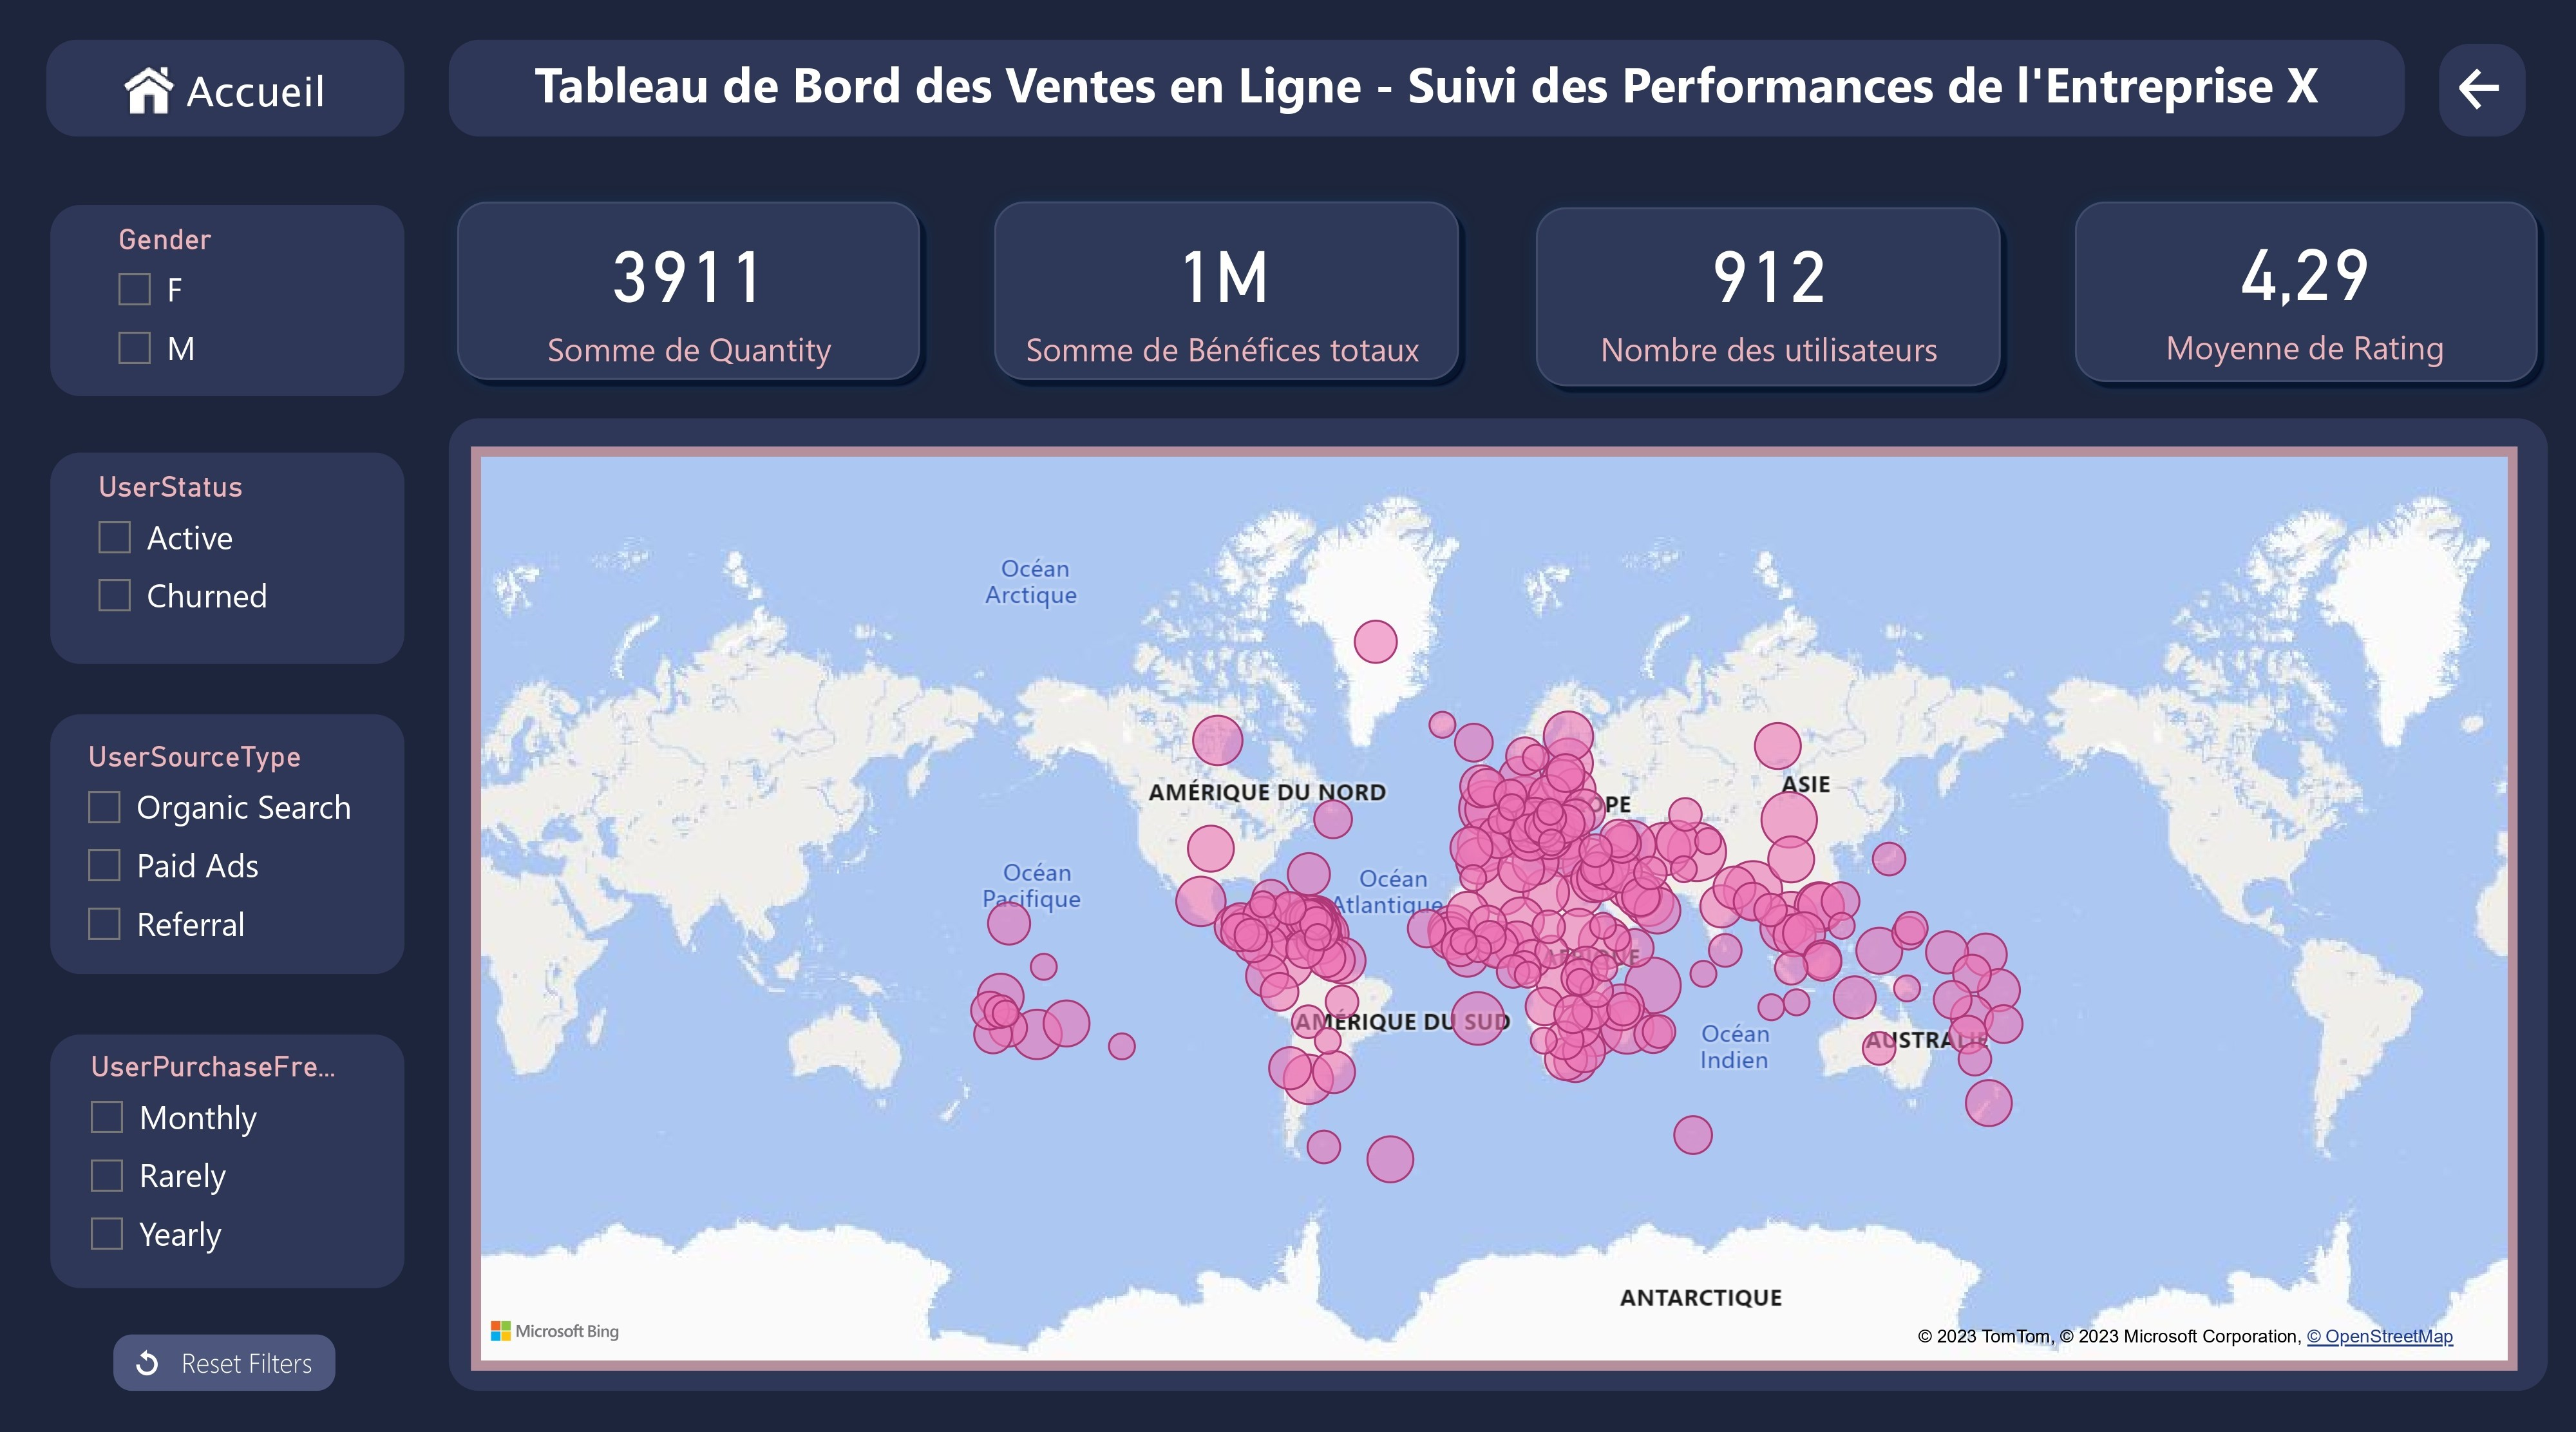

The dashboard page shown, as its layout file describes it:
{"tool":"powerbi","page":{"name":"Maps","canvas":[1280,720],"ordinal":2},"visuals":[{"type":"shape","box":[218.8,97.4,246.5,104.7],"z":0},{"type":"shape","box":[485.7,97.2,246.7,105.3],"z":1000},{"type":"shape","box":[755.5,100.2,246.8,104.7],"z":2000},{"type":"shape","box":[1023.4,96.5,246.3,105.8],"z":3000},{"type":"shape","box":[222.9,212.9,1042.9,482.9],"z":4000},{"type":"shape","box":[23.3,98.3,176.7,528.3],"z":5000},{"type":"shape","box":[222.9,25.7,910,47.1],"z":8000},{"type":"shape","box":[23.3,25,178.3,48.3],"z":9000},{"type":"card","fields":{"Values":["Sum(S_FactPurchases.Quantity)"]},"box":[237.8,97.8,208.9,104.4],"z":10000},{"type":"card","fields":{"Values":["S_FactPurchases.Moyenne Rating"]},"box":[1036.2,96.2,218.8,106.2],"z":11000},{"type":"card","fields":{"Values":["Sum(S_FactPurchases.Total)"]},"box":[502.2,97.8,211.1,104.4],"z":12000},{"type":"card","fields":{"Values":["CountNonNull(U_FactUsers.ID_User)"]},"box":[777.8,97.8,202.2,104.4],"z":13000},{"type":"map","fields":{"Category":["U_DimCountries.Country"],"Size":["Count(U_FactUsers.ID_User)"]},"box":[234.3,227.1,1017.1,458.6],"z":14000},{"type":"slicer","fields":{"Values":["U_DimGender.Gender"]},"box":[30,118.3,161.7,86.7],"z":15000},{"type":"slicer","fields":{"Values":["U_DimUserSourceTypes.UserSourceType"]},"box":[31.7,323.3,165,115],"z":16000},{"type":"slicer","fields":{"Values":["U_DimUserPurchaseFrequency.UserPurchaseFrequency"]},"box":[31.7,470,161.7,120],"z":17000},{"type":"textbox","box":[222.9,25.7,910,52.9],"z":18000},{"type":"slicer","fields":{"Values":["U_DimUserStatus.UserStatus"]},"box":[30,226.7,161.7,96.7],"z":19000},{"type":"actionButton","title":"Reset","box":[20,652.5,177.5,42.5],"z":20001},{"type":"shape","box":[1145.7,26,116.7,48.3],"z":20002},{"type":"actionButton","box":[1217,31,44.6,40],"z":20003},{"type":"actionButton","box":[1153.9,31,43.8,40],"z":20004}]}

Visuals, with their boxes in screenshot pixels (x1, y1, x2, y2), scaled from the page's 1280x720 canvas onto the 2576x1432 screenshot:
shape: <box>440,194,936,402</box>
shape: <box>978,193,1474,403</box>
shape: <box>1520,199,2017,408</box>
shape: <box>2060,192,2555,403</box>
shape: <box>449,423,2548,1384</box>
shape: <box>47,196,402,1246</box>
shape: <box>449,51,2280,145</box>
shape: <box>47,50,406,146</box>
card - Sum(S_FactPurchases.Quantity): <box>478,195,899,402</box>
card - S_FactPurchases.Moyenne Rating: <box>2085,191,2526,403</box>
card - Sum(S_FactPurchases.Total): <box>1010,195,1435,402</box>
card - CountNonNull(U_FactUsers.ID_User): <box>1566,195,1972,402</box>
map - U_DimCountries.Country x Count(U_FactUsers.ID_User): <box>471,452,2519,1364</box>
slicer - U_DimGender.Gender: <box>61,235,386,408</box>
slicer - U_DimUserSourceTypes.UserSourceType: <box>64,643,396,872</box>
slicer - U_DimUserPurchaseFrequency.UserPurchaseFrequency: <box>64,935,389,1174</box>
textbox: <box>449,51,2280,157</box>
slicer - U_DimUserStatus.UserStatus: <box>61,451,386,643</box>
"Reset" actionButton: <box>40,1298,397,1382</box>
shape: <box>2306,52,2541,148</box>
actionButton: <box>2449,62,2539,141</box>
actionButton: <box>2322,62,2410,141</box>
